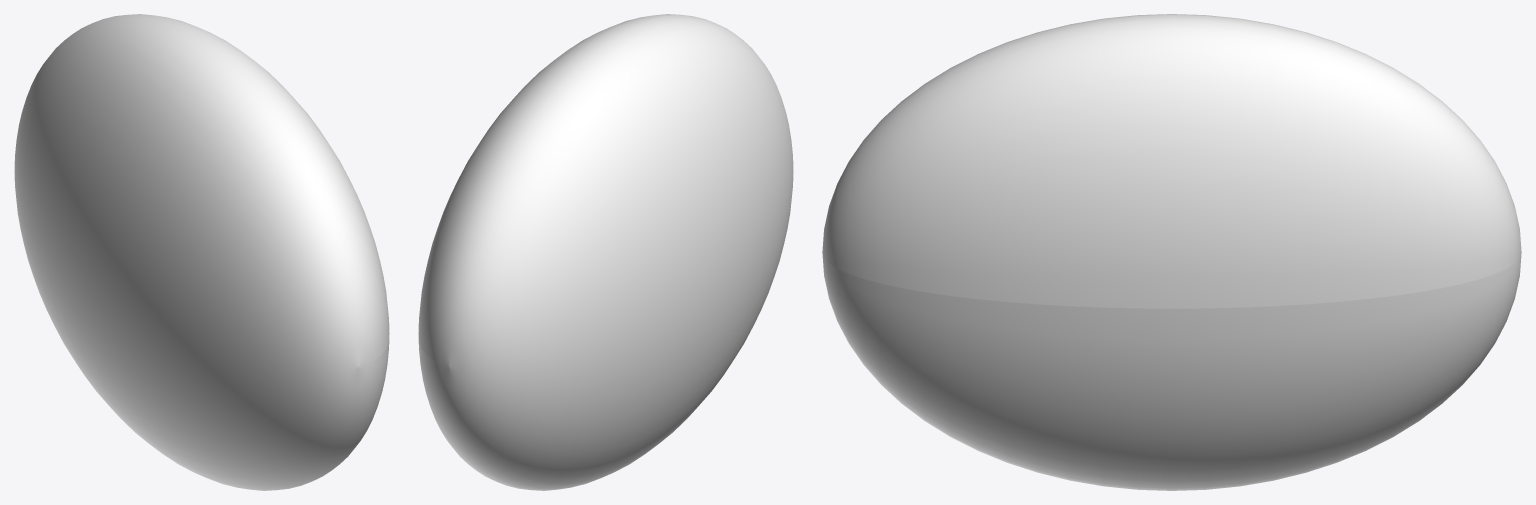
Rendered from AuraShell.fbx.
The picture shows the model from 3 angles, left to right: view 1: azimuth 30°, elevation 25°; view 2: azimuth 150°, elevation 25°; view 3: azimuth 270°, elevation 25°; orthographic projection. The views are drawn at different scales.
Parts seen in each view (by area): view 1: AuraShell; view 2: AuraShell; view 3: AuraShell.
Part boxes in pixels (x1,y1,x2,y2): AuraShell: [14, 14, 389, 490]; AuraShell: [418, 14, 793, 490]; AuraShell: [822, 14, 1521, 490].
Bounding box in the file's own units: 1.56 × 3 × 4.1.
Materials: 1 (1 with a texture image).
